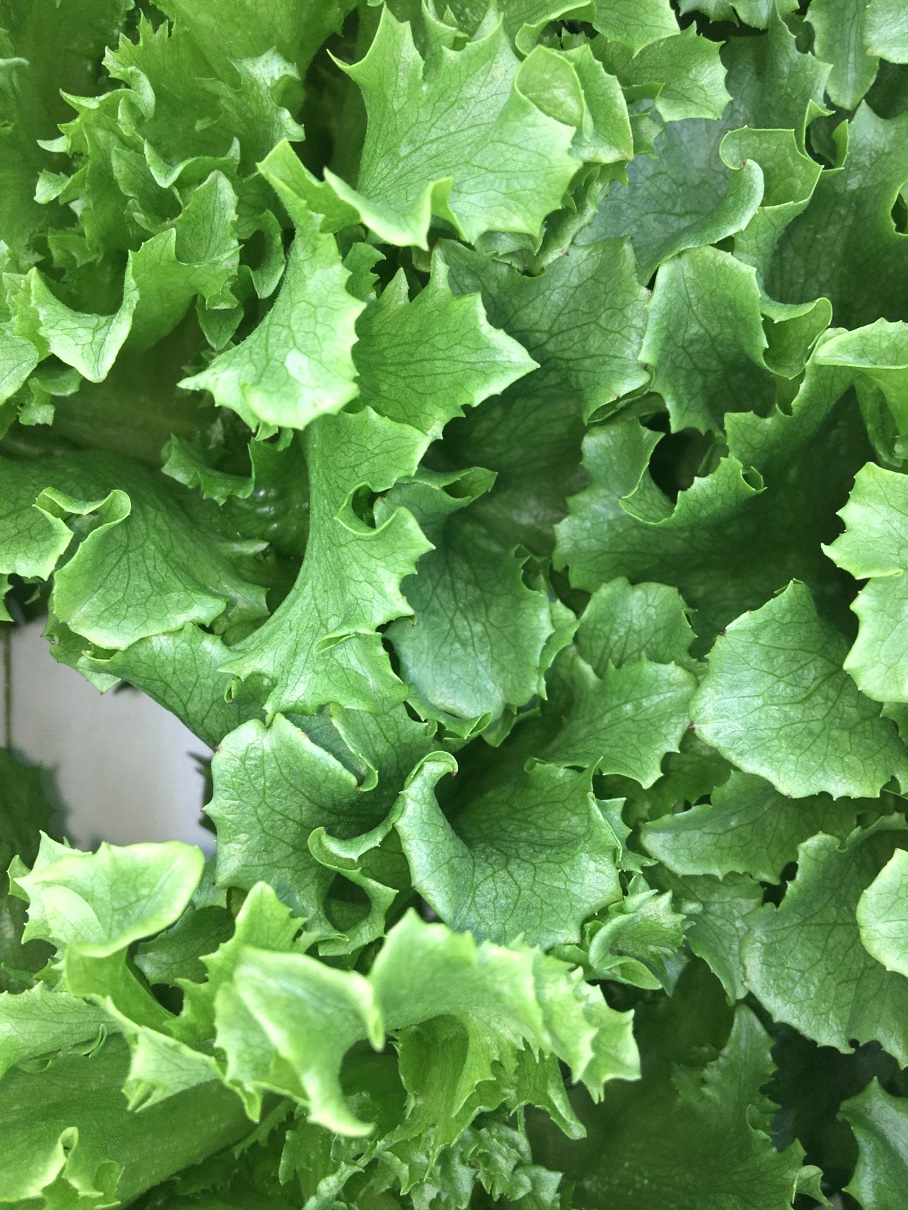tipburn: (613, 141, 653, 175), (28, 621, 63, 654), (75, 645, 111, 676), (393, 599, 422, 636), (701, 614, 735, 643), (772, 777, 801, 810), (556, 236, 585, 267), (445, 754, 472, 787), (677, 712, 711, 736), (600, 383, 629, 409), (729, 151, 756, 176), (136, 152, 159, 177)
